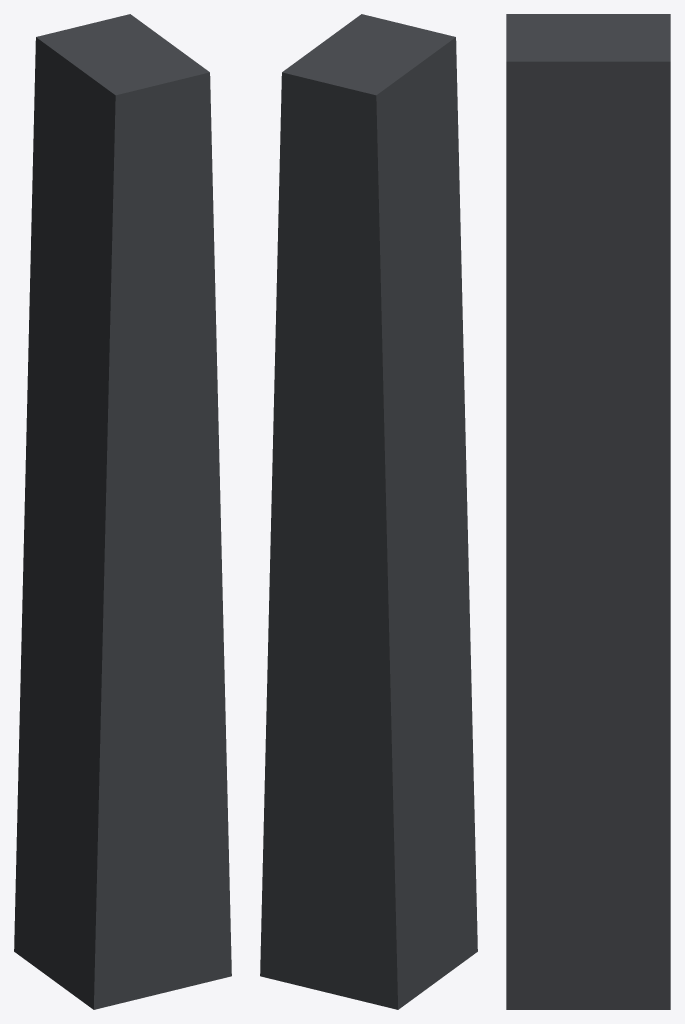
The model's file is Clock1_C3_03.fbx.
The picture shows the model from 3 angles, left to right: view 1: azimuth 30°, elevation 25°; view 2: azimuth 150°, elevation 25°; view 3: azimuth 270°, elevation 25°; orthographic projection. The views are drawn at different scales.
Parts seen in each view (by area): view 1: Clock1_C3_03; view 2: Clock1_C3_03; view 3: Clock1_C3_03.
Part boxes in pixels (box(x1,y1,x2,y2)): Clock1_C3_03: box(14, 14, 231, 1009); Clock1_C3_03: box(260, 14, 477, 1009); Clock1_C3_03: box(506, 14, 670, 1009).
Size of the model in its own units: 0.7428 by 4.67 by 0.7428.
